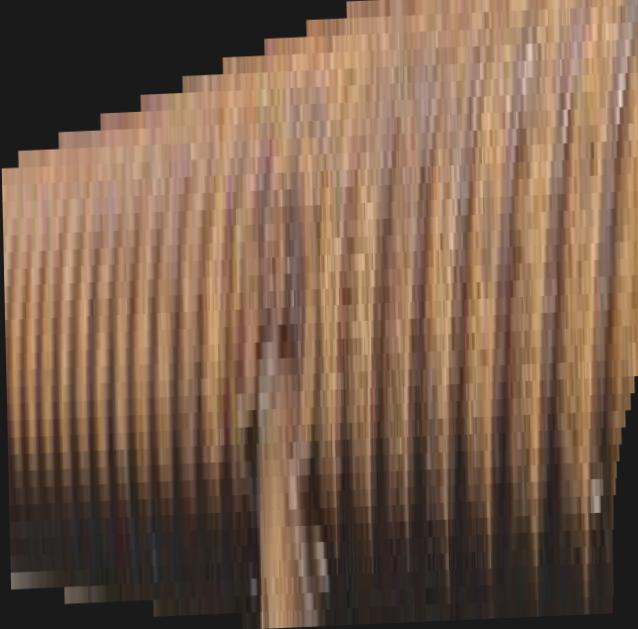Uniform Corrosion: (1, 0, 638, 629)
